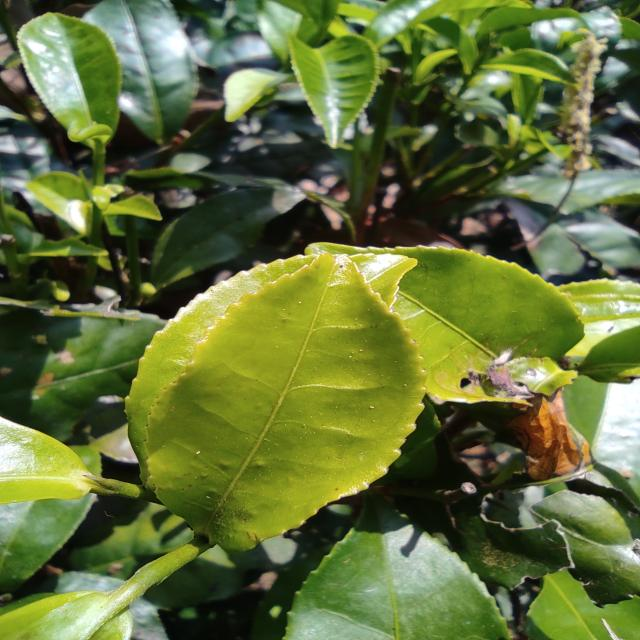Category C(4-7 days): (134, 230, 423, 559)
